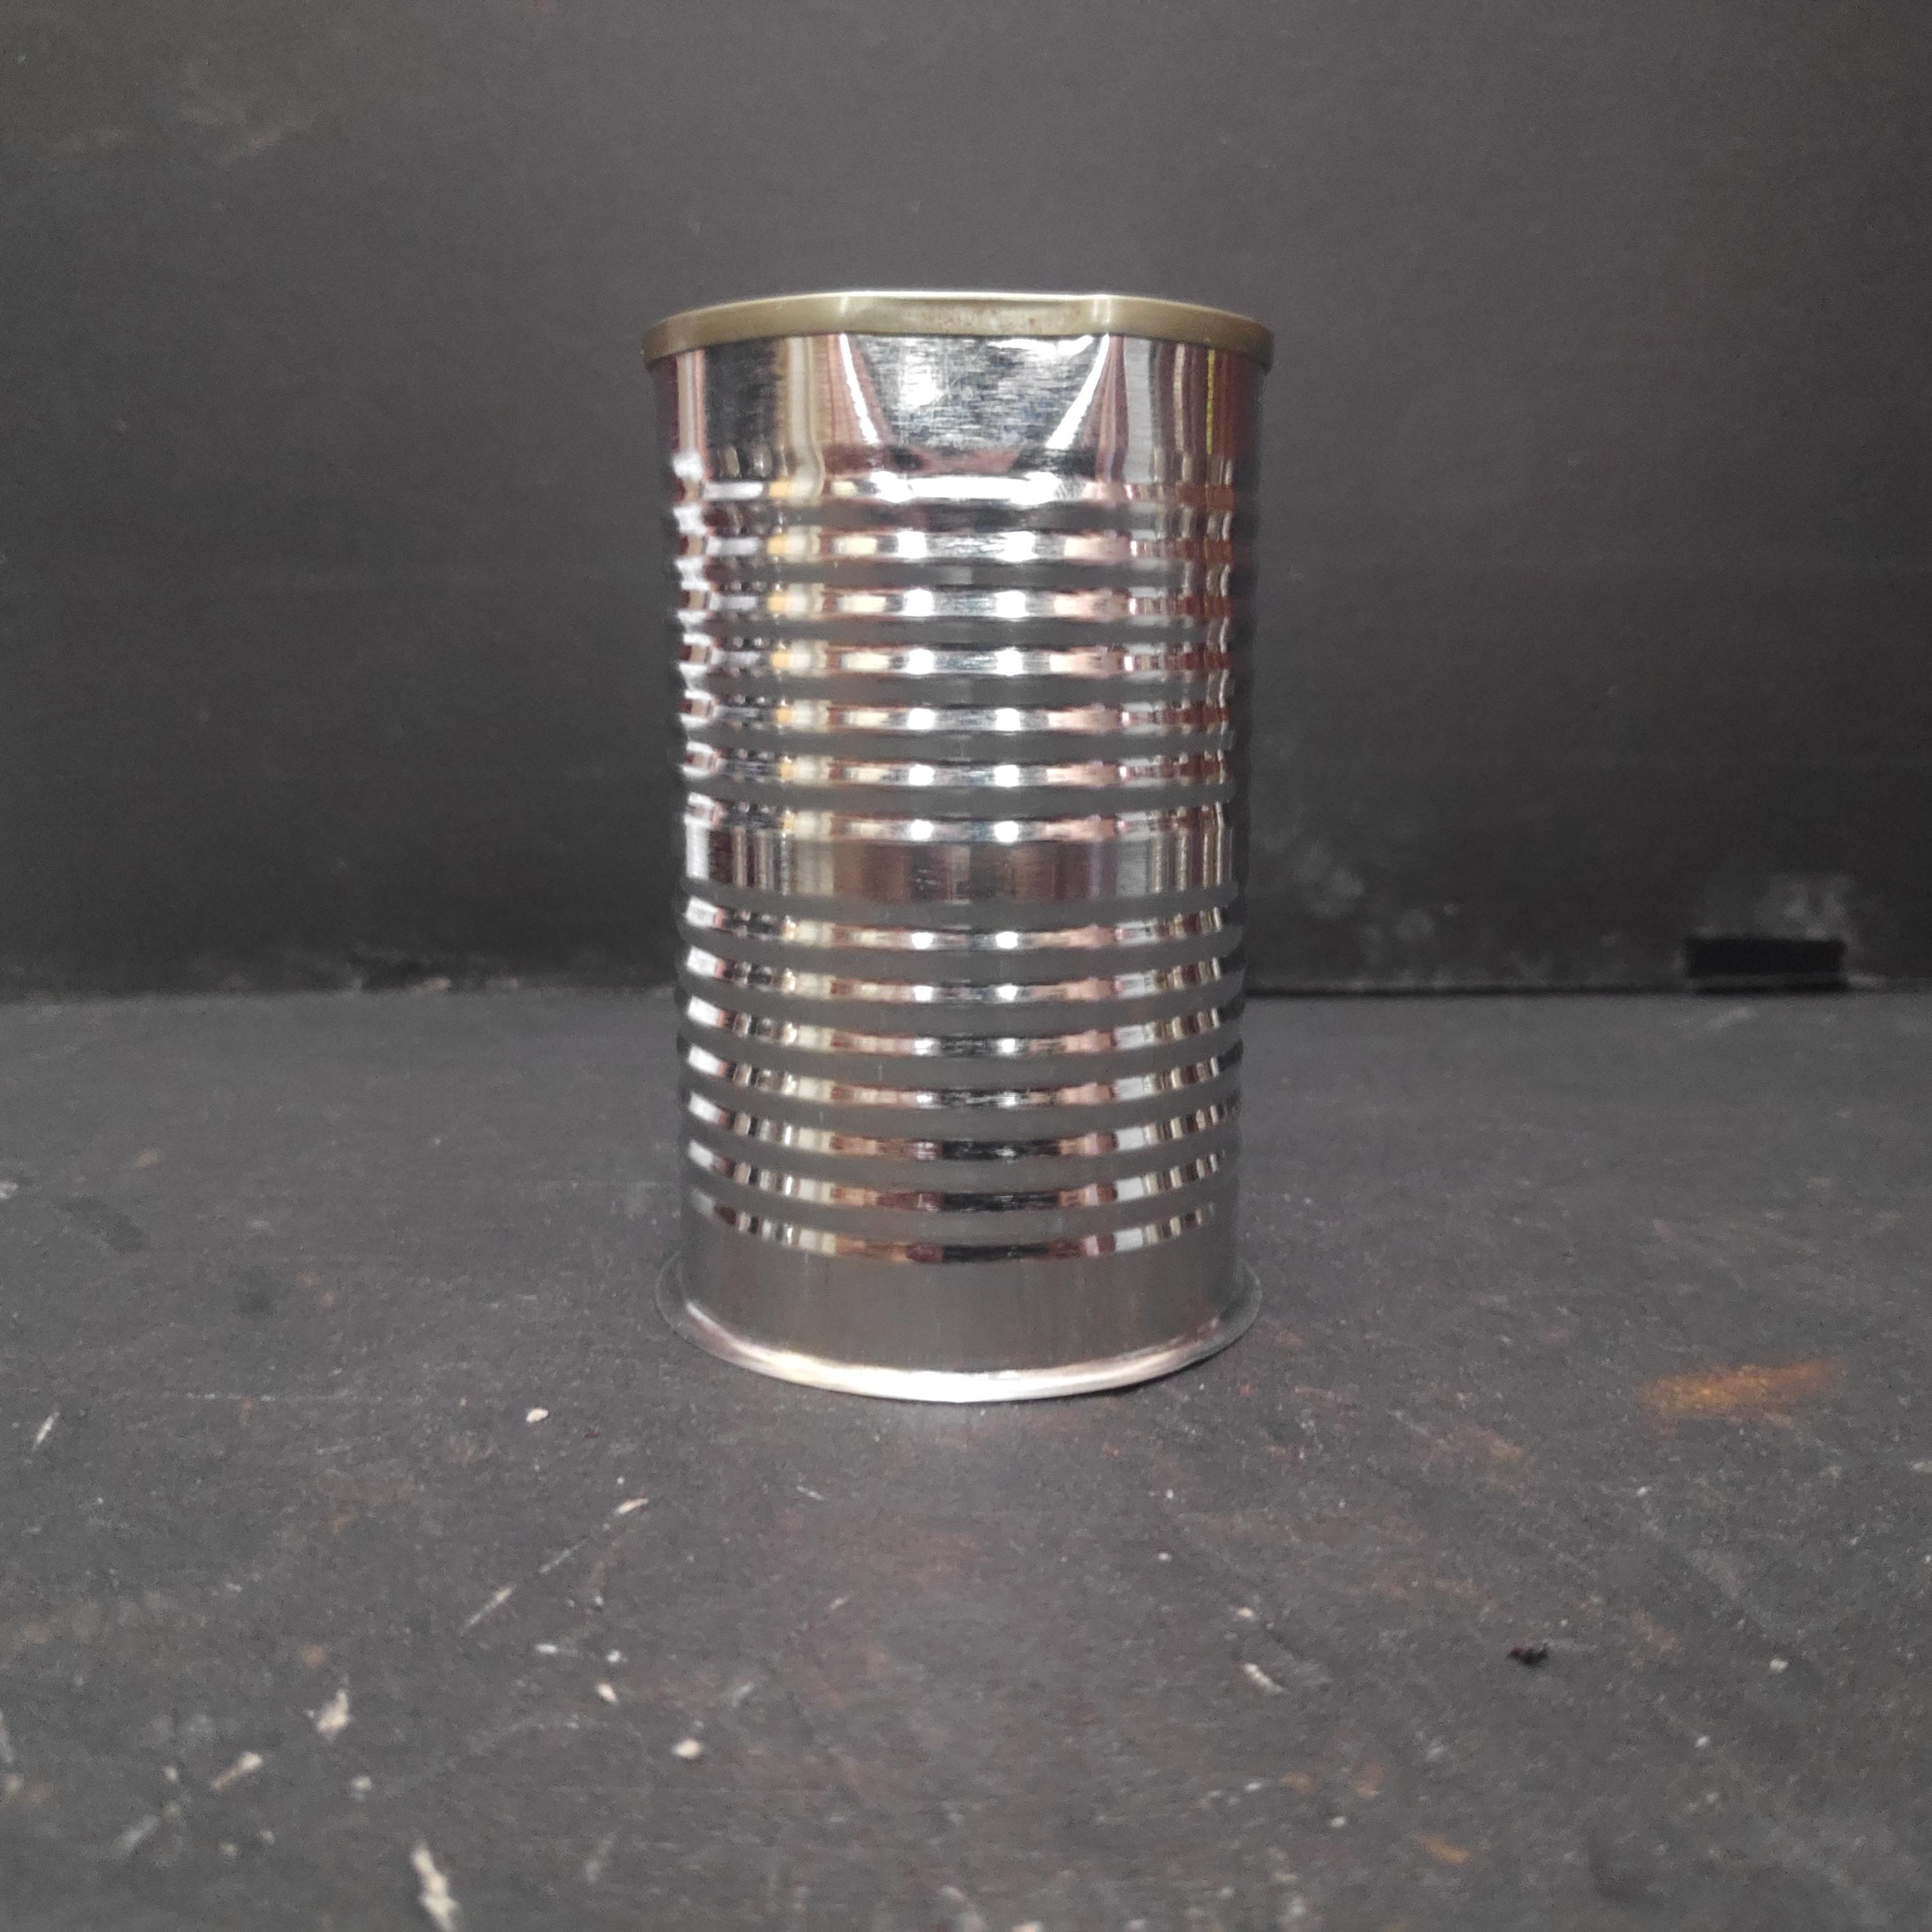Minor Defect: (643, 282, 1281, 1408)
